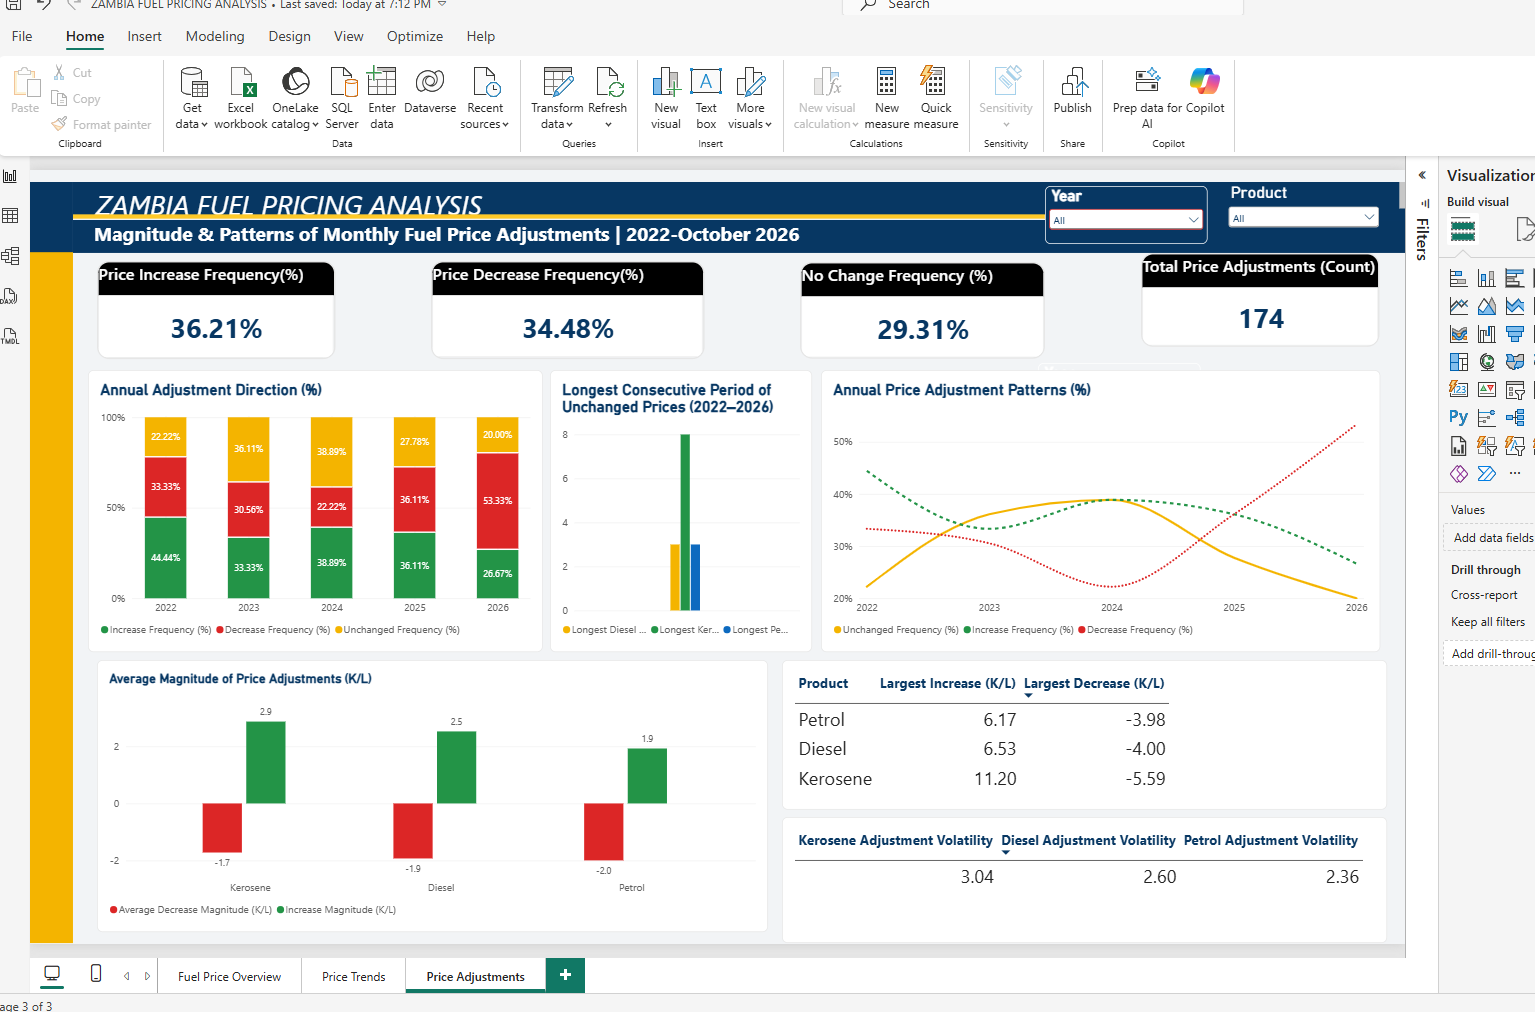

The dashboard page shown, as its layout file describes it:
{"tool":"powerbi","page":{"name":"Price Adjustments ","canvas":[1920,1080],"ordinal":2},"visuals":[{"type":"textbox","box":[60.6,16.2,1859.7,45.8],"z":0},{"type":"shape","box":[14,40.5,1403.3,48.9],"z":1000},{"type":"textbox","box":[60,69.8,1860,46.1],"z":2000},{"type":"slicer","title":"YEAR","fields":{"Values":["Date Table.Year"]},"box":[1407.5,269.5,226.9,80.8],"z":3000},{"type":"lineChart","title":"Annual Price Adjustment Patterns (%)","fields":{"Category":["Date Table.Year"],"Y":["_Measures.Unchanged Frequency (%)","_Measures.Increase Frequency (%)","_Measures.Decrease Frequency (%)"]},"box":[1104.5,279.3,780.6,393.8],"z":4000},{"type":"cardVisual","title":"Price Increase Frequency(%)","fields":{"Data":["_Measures.Increase Frequency (%)"]},"box":[93.6,127.5,332.6,137.4],"z":5000},{"type":"textbox","box":[0,114.5,60,964.9],"z":6000},{"type":"cardVisual","title":"Price Decrease Frequency(%)","fields":{"Data":["_Measures.Decrease Frequency (%)"]},"box":[559.8,127.5,381.5,136.8],"z":7000},{"type":"cardVisual","title":"No Change Frequency (%)","fields":{"Data":["_Measures.Unchanged Frequency (%)"]},"box":[1075,128.5,342.1,135.4],"z":8000},{"type":"hundredPercentStackedColumnChart","title":"Annual Adjustment Direction (%)","fields":{"Category":["Date Table.Year"],"Y":["_Measures.Increase Frequency (%)","_Measures.Decrease Frequency (%)","_Measures.Unchanged Frequency (%)"]},"box":[81,279.3,635.3,393.8],"z":9000},{"type":"clusteredColumnChart","title":"Average Magnitude of Price Adjustments (K/L)","fields":{"Category":["Fuel Products.Product"],"Y":["_Measures.Average Decrease Magnitude (K/L)","_Measures.Average Increase Magnitude (%)"]},"box":[93.6,684.2,937,379.8],"z":10000},{"type":"cardVisual","title":"Total Price Adjustments (Count)","fields":{"Data":["_Measures.Total Price Adjustments"]},"box":[1550.8,115.9,333.1,131.3],"z":11000},{"type":"tableEx","fields":{"Values":["Fuel Products.Product","_Measures.Largest Increase (K/L)","_Measures.Largest Decrease (K/L)"]},"box":[1050.1,684.2,844.8,209.5],"z":12000},{"type":"textbox","box":[0,16.8,60,97.7],"z":13000},{"type":"shape","box":[1417.3,47.5,502.7,36.3],"z":14000},{"type":"slicer","title":"YEAR","fields":{"Values":["Date Table.Year"]},"box":[1417.3,22.3,226.9,80.8],"z":15000},{"type":"slicer","fields":{"Values":["Fuel Products.Product"]},"box":[1668.5,17.5,219.8,87.9],"z":16000},{"type":"tableEx","fields":{"Values":["_Measures.Kerosene Adjustment Volatility","_Measures.Diesel Adjustment Volatility","_Measures.Petrol Adjustment Volatility"]},"box":[1050.1,903.4,844.8,175.9],"z":17000},{"type":"clusteredColumnChart","title":"Longest Consecutive Period of Unchanged Prices (2022–2026)","fields":{"Y":["_Measures.Longest Diesel Unchanged Streak","_Measures.Longest Kerosene Unchanged Streak","_Measures.Longest Petrol Unchanged Streak"]},"box":[726.1,279.3,365.8,393.8],"z":18000}]}

Visuals, with their boxes on the page's 1920x1080 design canvas (x1, y1, x2, y2). These are canvas units, not pixel positions in the 1535x1012 screenshot, which may show the page scaled, cropped or inside an application window:
textbox: select_region(61, 16, 1920, 62)
shape: select_region(14, 40, 1417, 89)
textbox: select_region(60, 70, 1920, 116)
"YEAR" slicer: select_region(1408, 270, 1634, 350)
"Annual Price Adjustment Patterns (%)" lineChart: select_region(1104, 279, 1885, 673)
"Price Increase Frequency(%)" cardVisual: select_region(94, 128, 426, 265)
textbox: select_region(0, 114, 60, 1079)
"Price Decrease Frequency(%)" cardVisual: select_region(560, 128, 941, 264)
"No Change Frequency (%)" cardVisual: select_region(1075, 128, 1417, 264)
"Annual Adjustment Direction (%)" hundredPercentStackedColumnChart: select_region(81, 279, 716, 673)
"Average Magnitude of Price Adjustments (K/L)" clusteredColumnChart: select_region(94, 684, 1031, 1064)
"Total Price Adjustments (Count)" cardVisual: select_region(1551, 116, 1884, 247)
tableEx - Fuel Products.Product x _Measures.Largest Increase (K/L): select_region(1050, 684, 1895, 894)
textbox: select_region(0, 17, 60, 114)
shape: select_region(1417, 48, 1920, 84)
"YEAR" slicer: select_region(1417, 22, 1644, 103)
slicer - Fuel Products.Product: select_region(1668, 18, 1888, 105)
tableEx - _Measures.Kerosene Adjustment Volatility x _Measures.Diesel Adjustment Volatility: select_region(1050, 903, 1895, 1079)
"Longest Consecutive Period of Unchanged Prices (2022–2026)" clusteredColumnChart: select_region(726, 279, 1092, 673)
